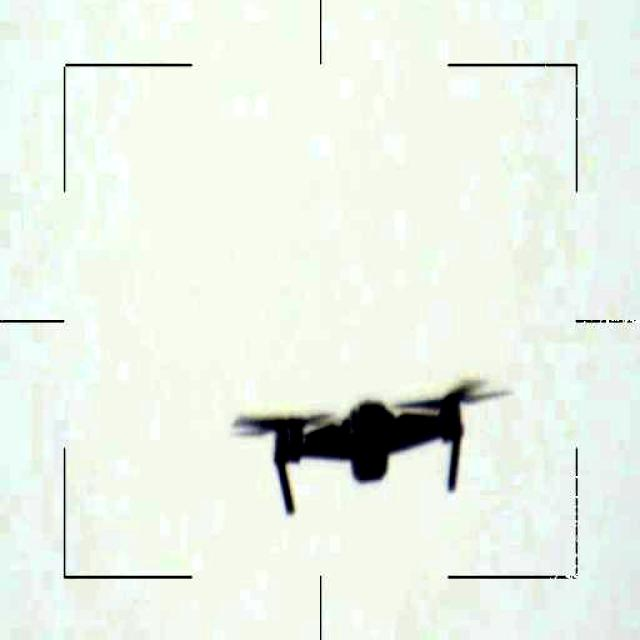bird: (221, 378, 508, 525)
